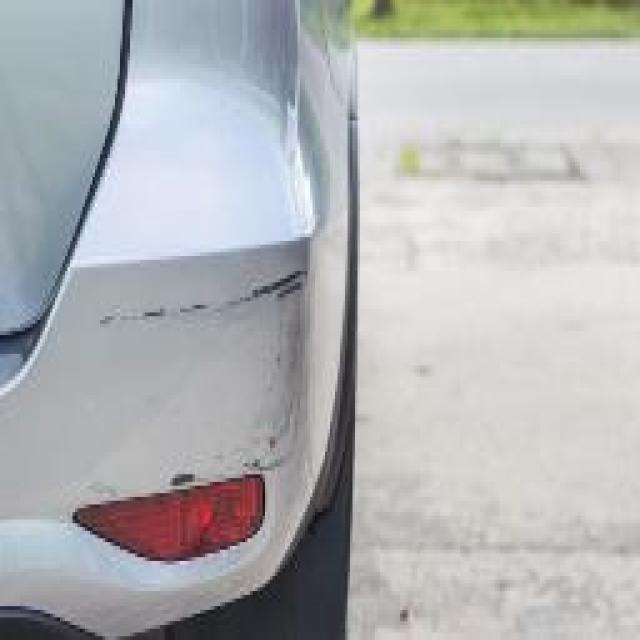Bumper: (85, 252, 325, 550)
